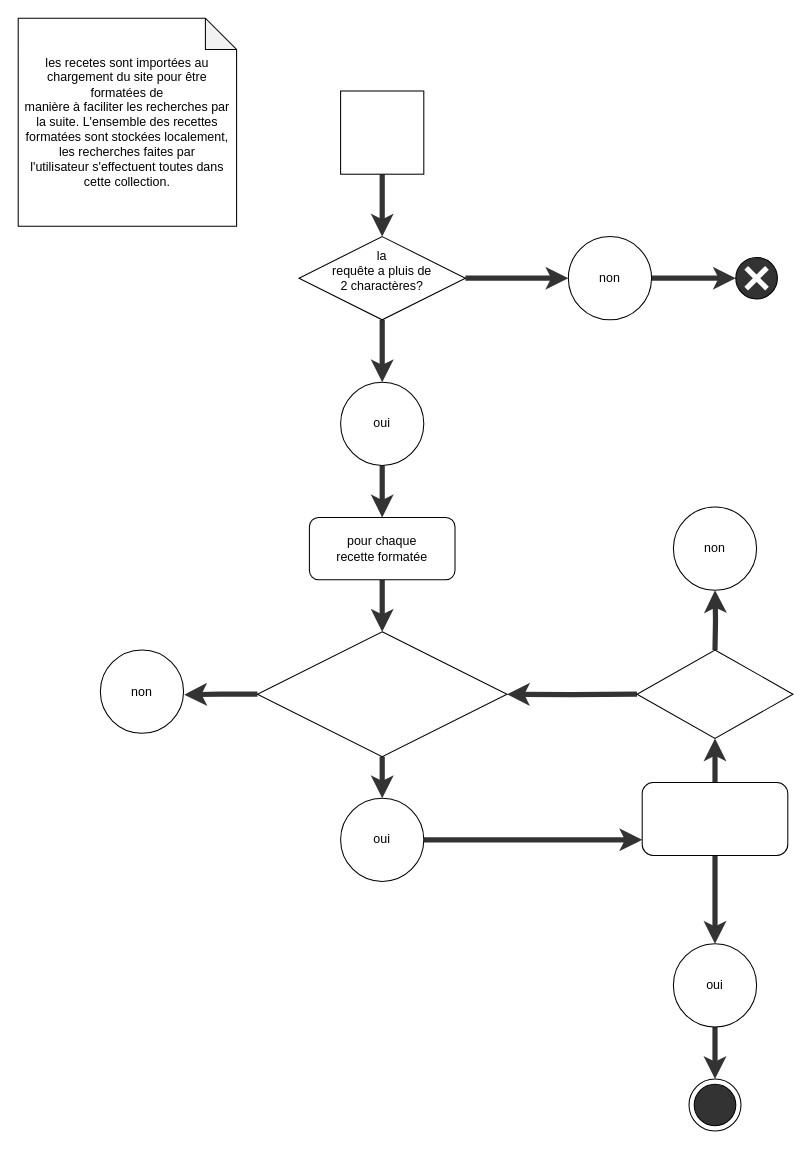
Image size: 811x1149. Some labels were removed from this diagram. Here are the shapes that lost their labels. From the top down, the centre of each, then its label:
the point at 382,132: réception d'une requête
the point at 381,694: la requête est-elle présente dans la chaîne "titre+description+ingrédients"?
the point at 714,693: dernière recette?
the point at 714,818: affichage de la recette
